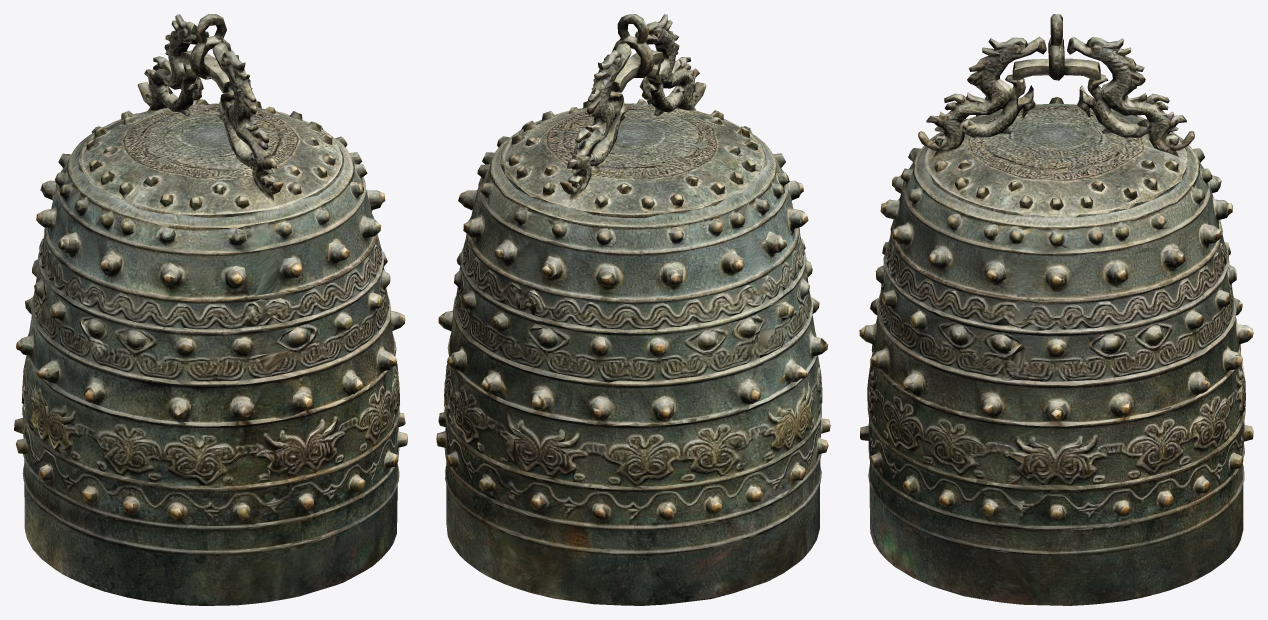
3 views of the same model, side by side, from view 1: azimuth 30°, elevation 25°; view 2: azimuth 150°, elevation 25°; view 3: azimuth 270°, elevation 25° (orthographic).
Visible parts, largest first — view 1: mesh; view 2: mesh; view 3: mesh.
Part boxes in pixels (x1,y1,x2,y2): mesh: (14, 14, 407, 605); mesh: (436, 14, 830, 605); mesh: (859, 14, 1253, 605).
Bounding box in the file's own units: 0.7073 × 1 × 0.6957.
Materials: 1 (1 with a texture image).
